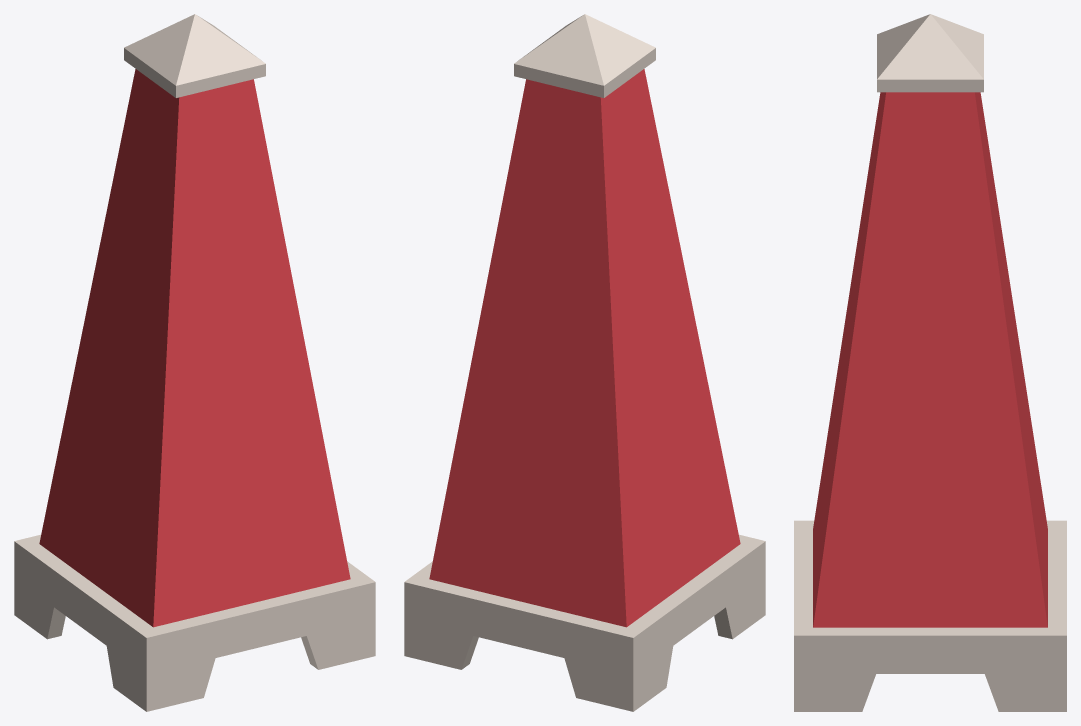
File: xounts.gltf
3 renders of one model, left to right at view 1: azimuth 30°, elevation 25°; view 2: azimuth 150°, elevation 25°; view 3: azimuth 270°, elevation 25°, orthographic. The views are drawn at different scales.
Parts seen in each view (by area): view 1: Cube.001; view 2: Cube.001; view 3: Cube.001.
Part boxes in pixels (<box>): Cube.001: <box>14,14,375,711</box>; Cube.001: <box>404,14,765,711</box>; Cube.001: <box>794,14,1066,711</box>.
Bounding box in the file's own units: 0.3893 × 1.01 × 0.3893.
